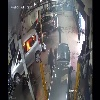fire: (22, 31, 38, 54)
